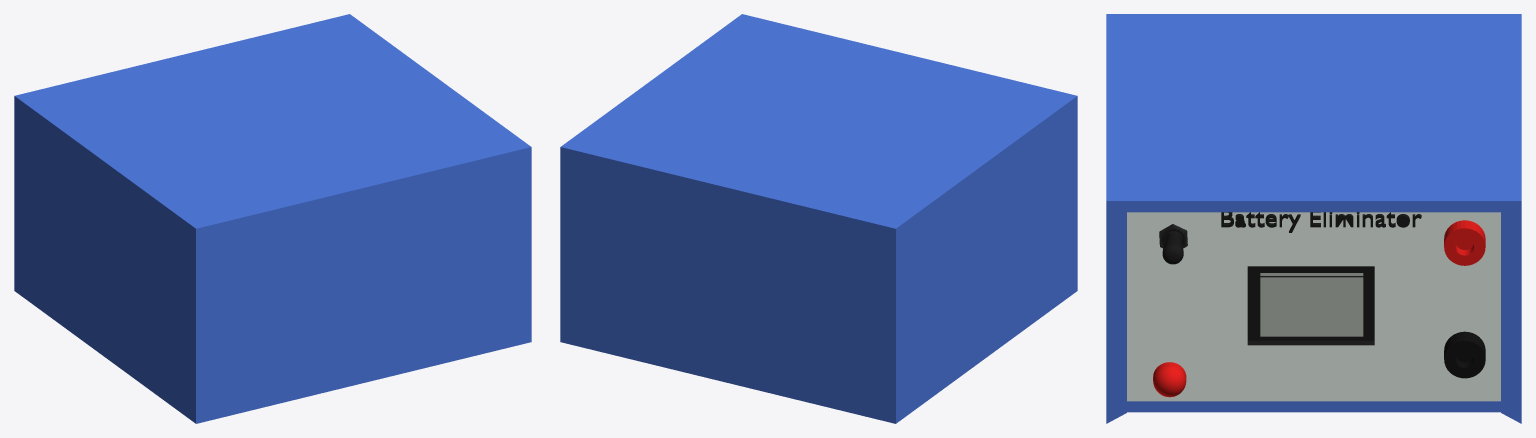
Rendered from Battery2.fbx.
The picture shows the model from 3 angles, left to right: view 1: azimuth 30°, elevation 25°; view 2: azimuth 150°, elevation 25°; view 3: azimuth 270°, elevation 25°; orthographic projection. The views are drawn at different scales.
Visible parts, largest first — view 1: Cube; view 2: Cube; view 3: Cube, Cube.001, Text, Cylinder.001, Cylinder, Sphere, Cylinder.003.
Part boxes in pixels (x1,y1,x2,y2): Cube: [14, 14, 531, 423]; Cube: [560, 14, 1077, 423]; Cube: [1106, 14, 1521, 423]; Cube.001: [1247, 266, 1374, 345]; Text: [1221, 212, 1421, 232]; Cylinder.001: [1444, 331, 1485, 378]; Cylinder: [1444, 220, 1485, 265]; Sphere: [1153, 362, 1186, 397]; Cylinder.003: [1162, 230, 1183, 264].
Bounding box in the file's own units: 4.5 × 2.37 × 4.
